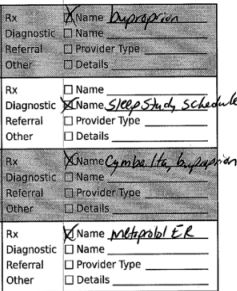checked: (61, 222, 78, 243), (59, 96, 78, 114), (61, 5, 77, 26), (62, 150, 77, 171)
